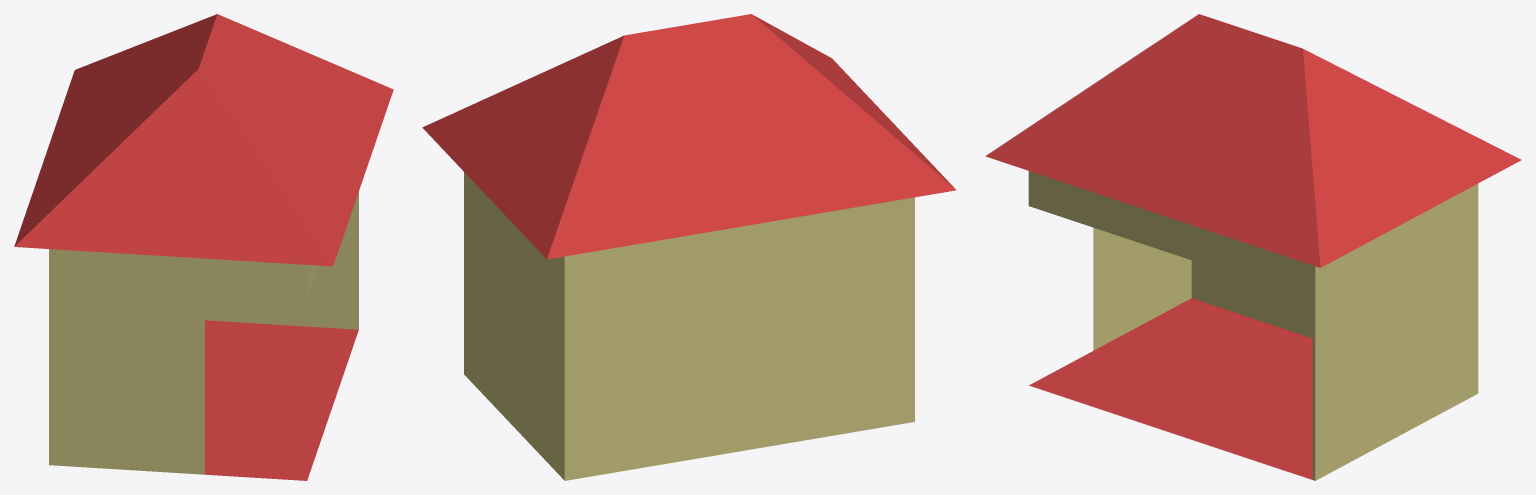
3 views of the same model, side by side, from view 1: azimuth 30°, elevation 25°; view 2: azimuth 150°, elevation 25°; view 3: azimuth 270°, elevation 25° (orthographic). The views are drawn at different scales.
Visible parts, largest first — view 1: group_3, group_5, group_6, group_4; view 2: group_5, group_3, group_4; view 3: group_3, group_5, group_6, group_4.
Part boxes in pixels (x1=…): group_3: x1=14, y1=14, x2=393, y2=266; group_5: x1=49, y1=192, x2=358, y2=474; group_6: x1=205, y1=320, x2=358, y2=480; group_4: x1=14, y1=58, x2=332, y2=265; group_5: x1=464, y1=172, x2=914, y2=480; group_3: x1=422, y1=14, x2=955, y2=258; group_4: x1=423, y1=49, x2=956, y2=259; group_3: x1=985, y1=14, x2=1475, y2=267; group_5: x1=1028, y1=171, x2=1478, y2=480; group_6: x1=1029, y1=298, x2=1312, y2=479; group_4: x1=994, y1=126, x2=1521, y2=267.
Bounding box in the file's own units: 16.73 × 17.27 × 12.77.
